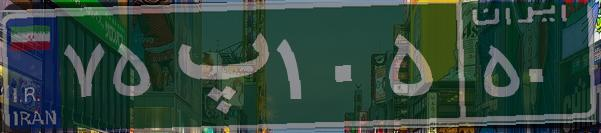0: (330, 28, 385, 110), (525, 38, 570, 115)
1: (273, 28, 330, 110)
5: (385, 28, 445, 110), (475, 38, 525, 113), (110, 28, 158, 105)
7: (57, 26, 110, 107)
پ: (158, 15, 273, 115)
